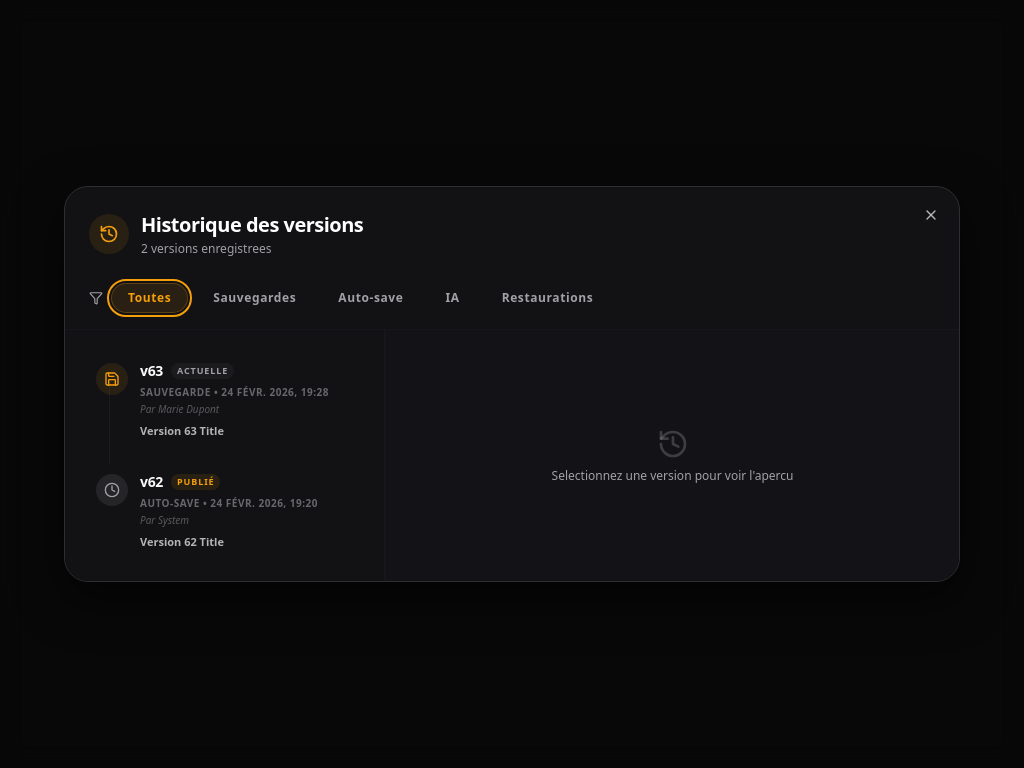
Scenario: ProductVersionHistoryDialog › cleans HTML tags from the short description in preview
Click version 63
Click the text "v63" at (152, 371), box left=140, top=361, right=163, bottom=381
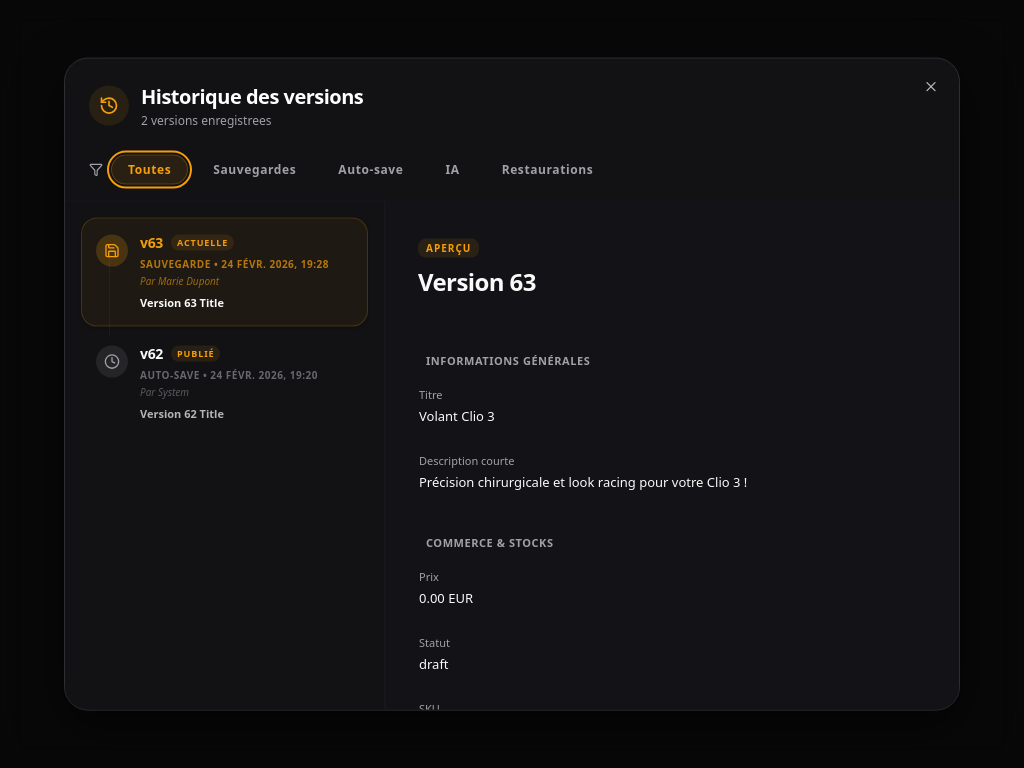
Now the text "Précision chirurgicale et look racing pour votre Clio 3 !" is shown, box left=419, top=473, right=747, bottom=491
